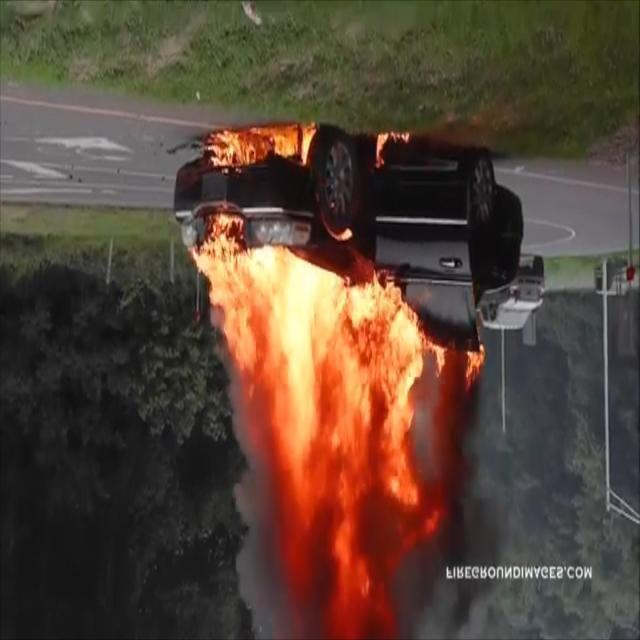fire: (198, 172, 482, 628), (208, 117, 424, 164)
